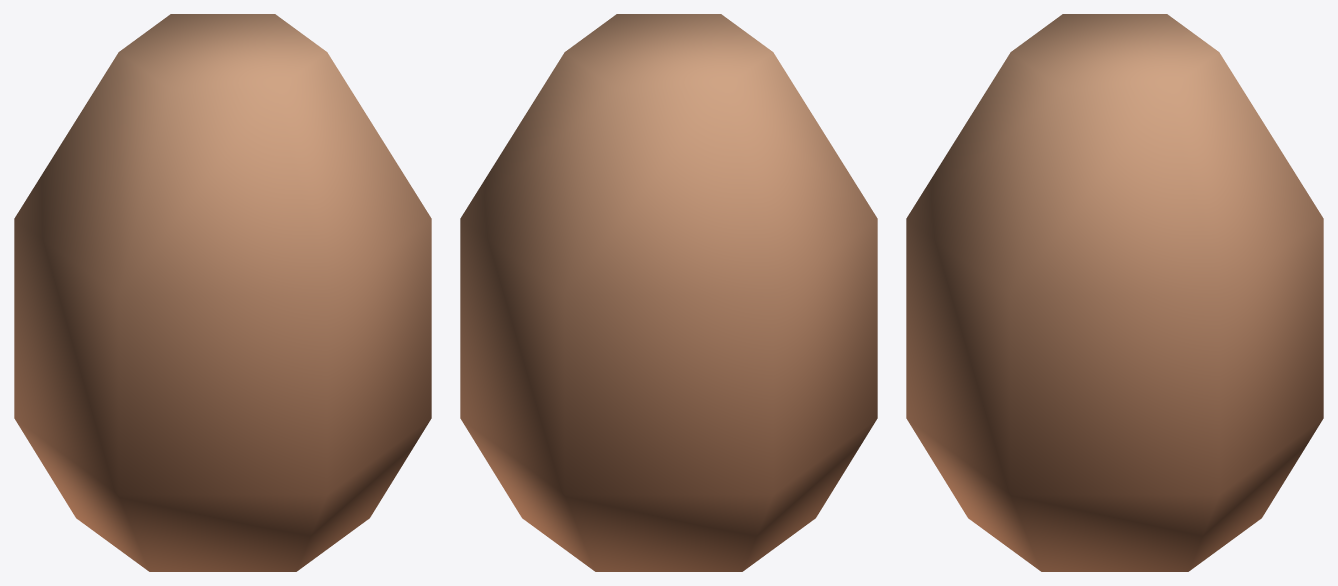
The model's file is egg.glb.
The picture shows the model from 3 angles, left to right: view 1: azimuth 30°, elevation 25°; view 2: azimuth 150°, elevation 25°; view 3: azimuth 270°, elevation 25°; orthographic projection.
Parts seen in each view (by area): view 1: egg-2; view 2: egg-2; view 3: egg-2.
Boxes of the visible parts, box(x1,y1,x2,y2) form: egg-2: box(14, 14, 431, 571); egg-2: box(460, 14, 877, 571); egg-2: box(906, 14, 1323, 571).
Size of the model in its own units: 0.1161 by 0.1652 by 0.134.
